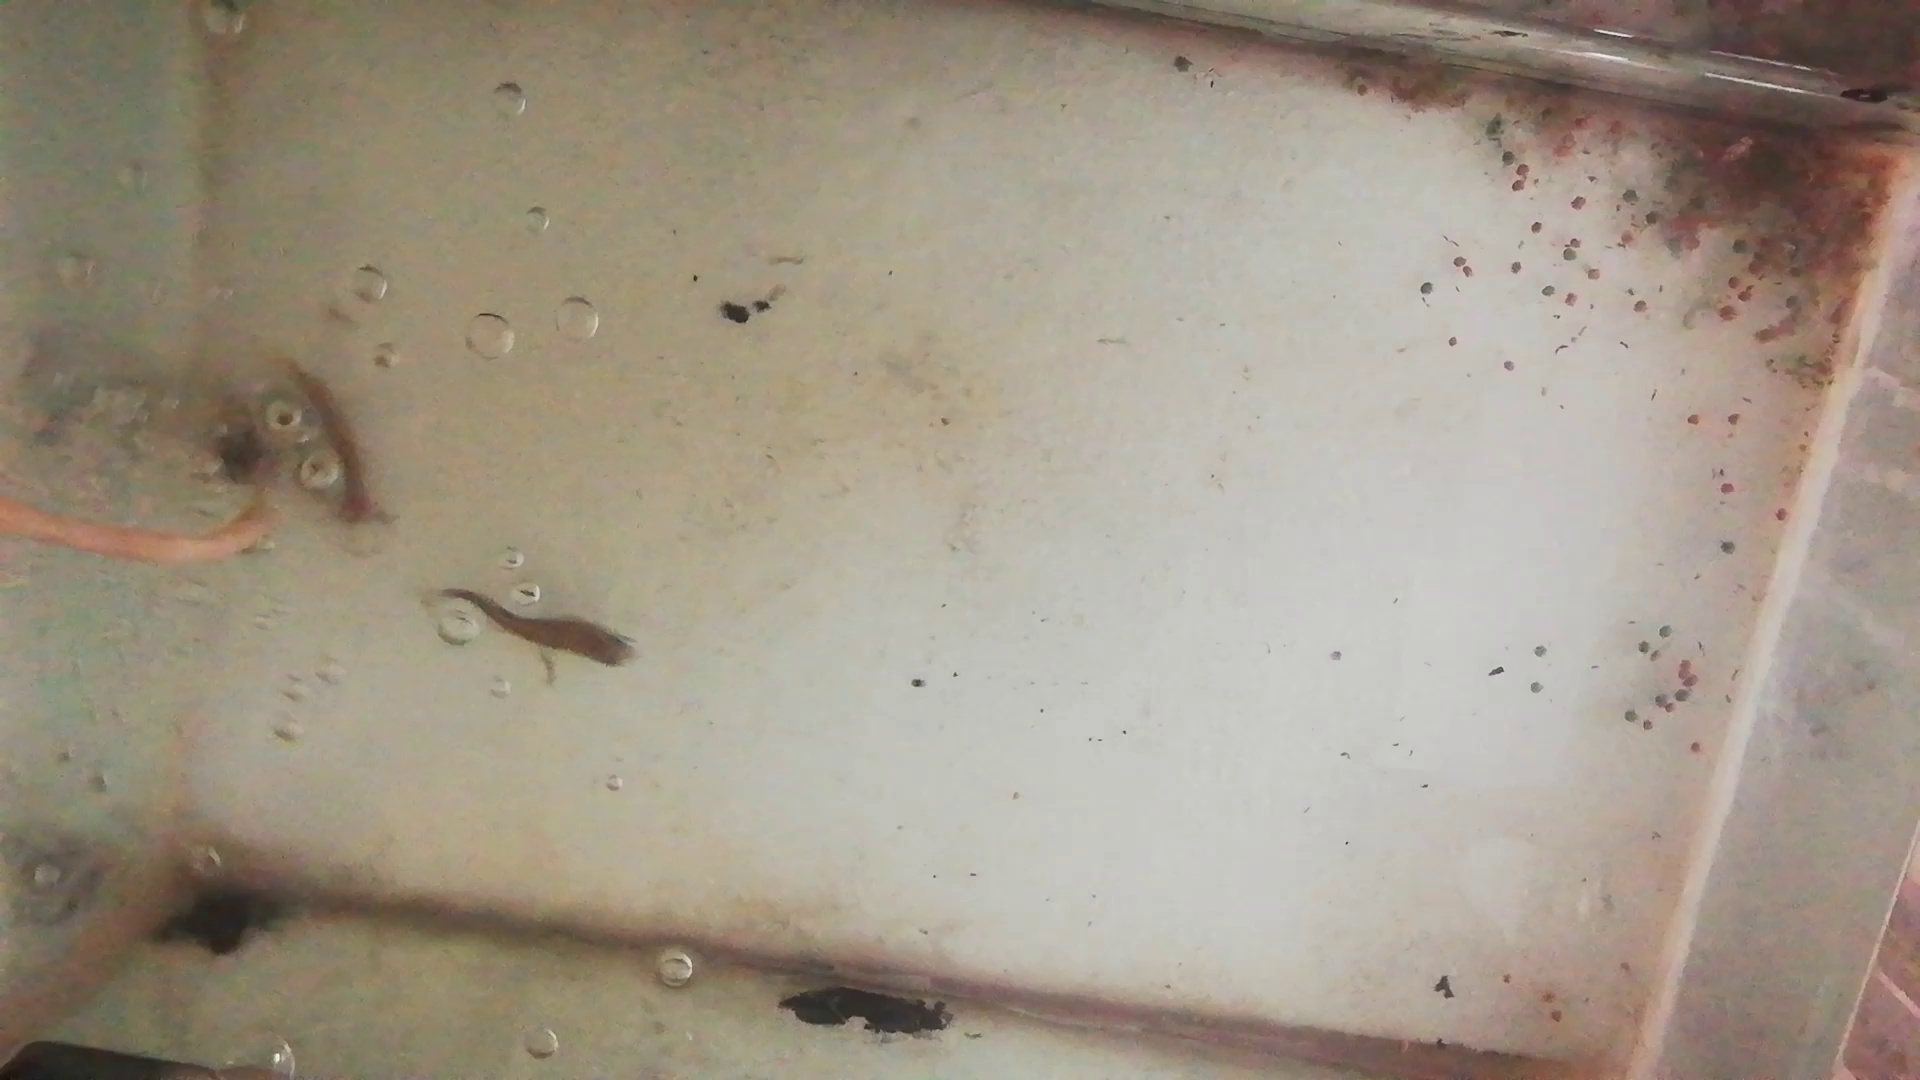fish: (273, 360, 368, 535), (436, 589, 638, 670)
